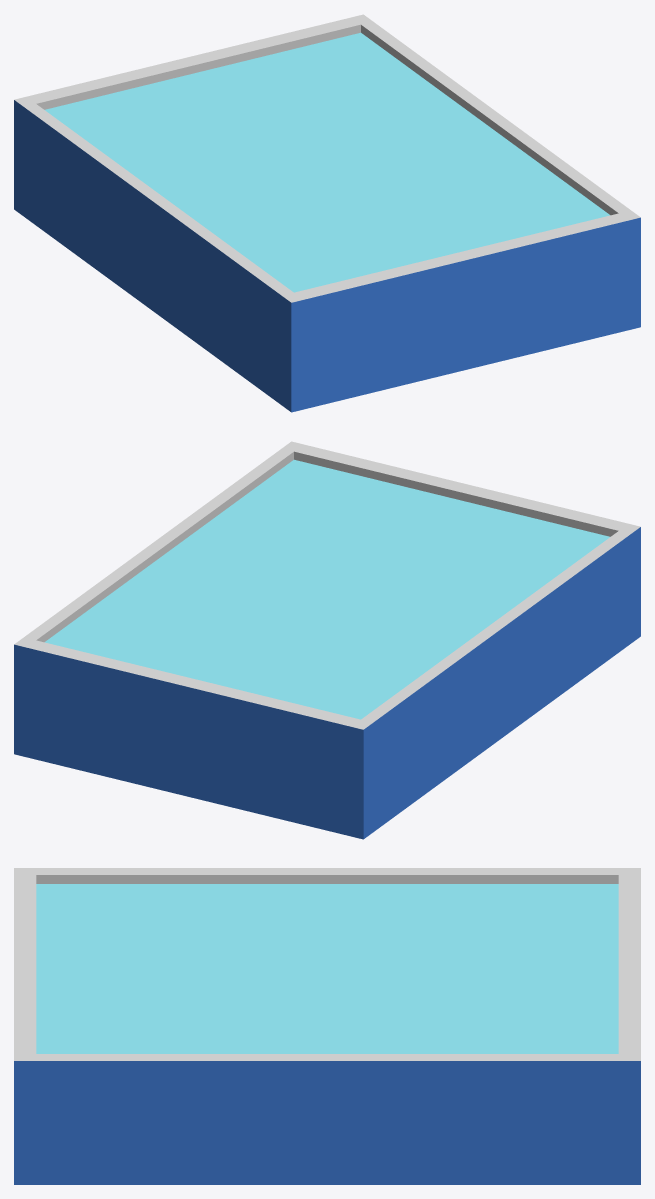
The model's file is Pool.fbx.
3 views of the same model, one above another, from view 1: azimuth 30°, elevation 25°; view 2: azimuth 150°, elevation 25°; view 3: azimuth 270°, elevation 25° (orthographic). The views are drawn at different scales.
Visible parts, largest first — view 1: Pool; view 2: Pool; view 3: Pool.
Part boxes in pixels (x1,y1,x2,y2): Pool: [14, 14, 640, 412]; Pool: [14, 441, 640, 839]; Pool: [14, 868, 640, 1184].
Bounding box in the file's own units: 400 × 120 × 550.
